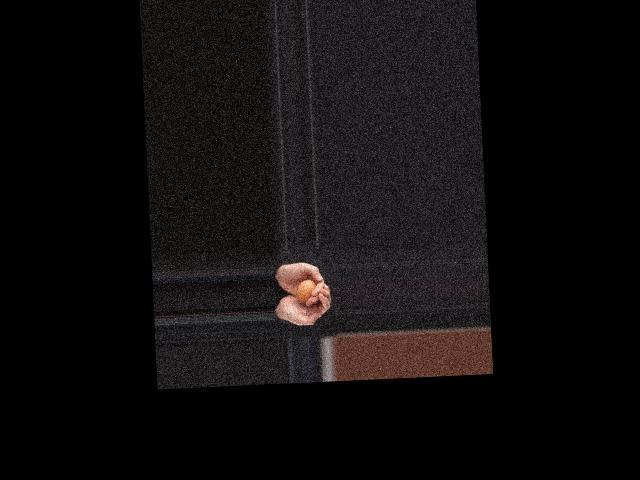egg: (295, 279, 316, 304)
